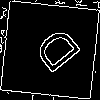D: (25, 25, 83, 82)
